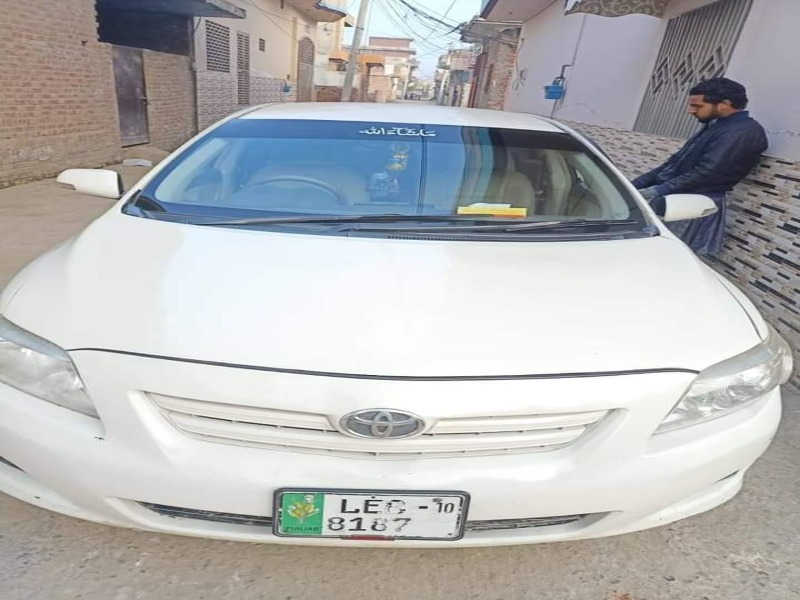License Plate: (269, 484, 473, 553)
